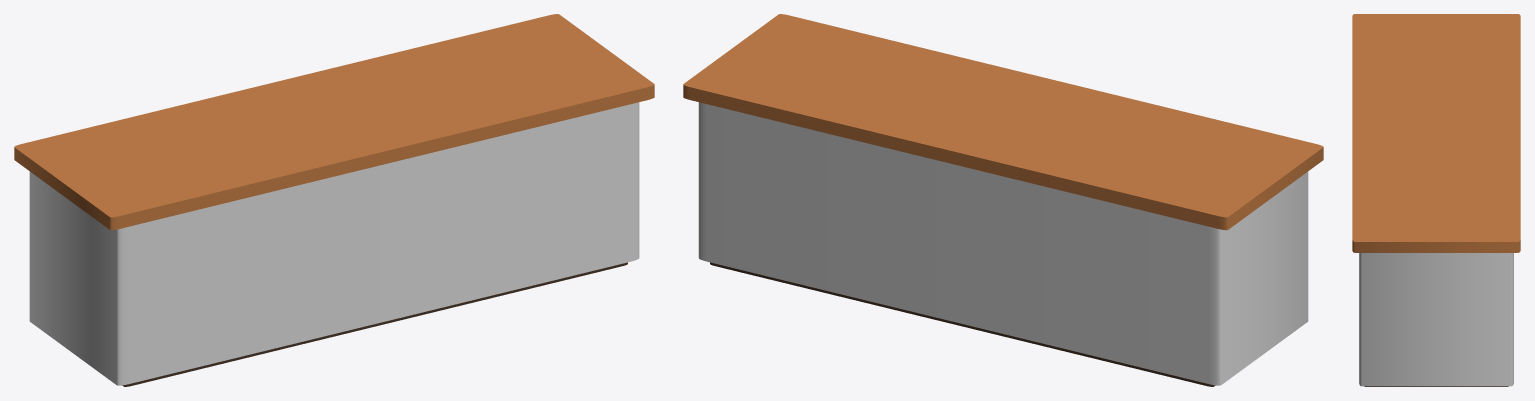
File: meja putih.fbx
3 views of the same model, side by side, from view 1: azimuth 30°, elevation 25°; view 2: azimuth 150°, elevation 25°; view 3: azimuth 270°, elevation 25° (orthographic). The views are drawn at different scales.
Parts seen in each view (by area): view 1: Cube; view 2: Cube; view 3: Cube.
Part boxes in pixels (left/top/right/bottom): Cube: left=14, top=14, right=654, bottom=386; Cube: left=683, top=14, right=1323, bottom=386; Cube: left=1352, top=14, right=1520, bottom=386.
Size of the model in its own units: 849 by 267 by 266.
Materials: 1 (1 with a texture image).
